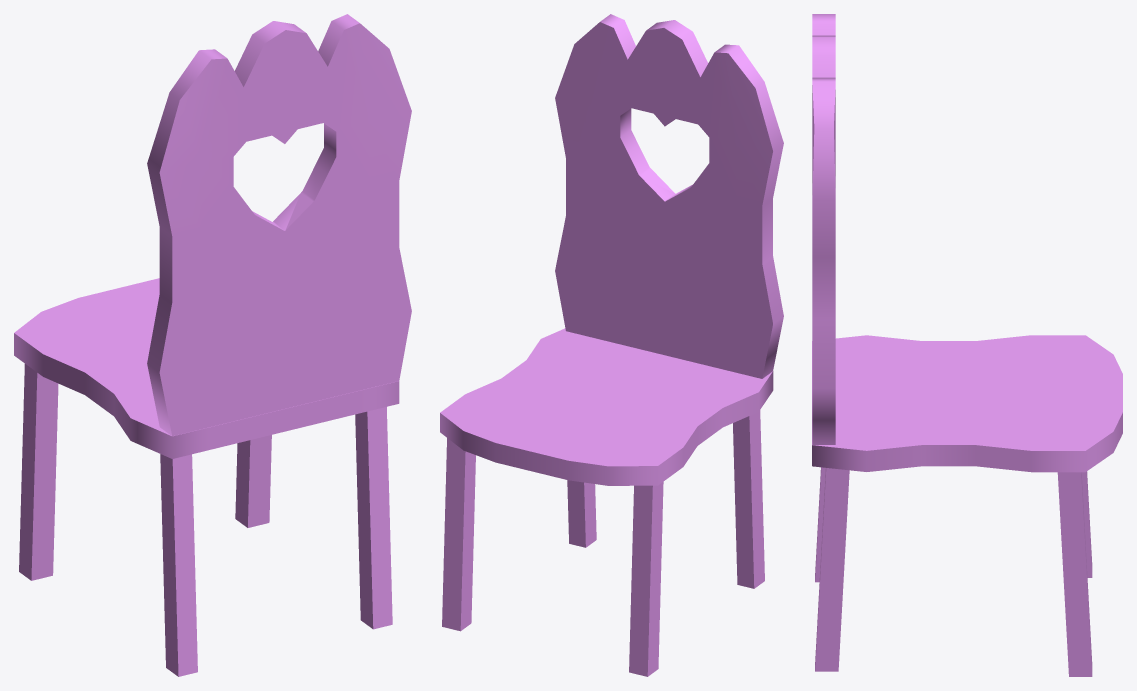
The model's file is stm_env_chair.fbx.
3 views of the same model, side by side, from view 1: azimuth 30°, elevation 25°; view 2: azimuth 150°, elevation 25°; view 3: azimuth 270°, elevation 25° (orthographic). The views are drawn at different scales.
Parts seen in each view (by area): view 1: Boole_1; view 2: Boole_1; view 3: Boole_1.
Boxes of the visible parts, left/top/right/bottom form: Boole_1: left=14, top=14, right=411, bottom=676; Boole_1: left=440, top=14, right=783, bottom=676; Boole_1: left=812, top=14, right=1122, bottom=676.
Bounding box in the file's own units: 233 × 550 × 265.
